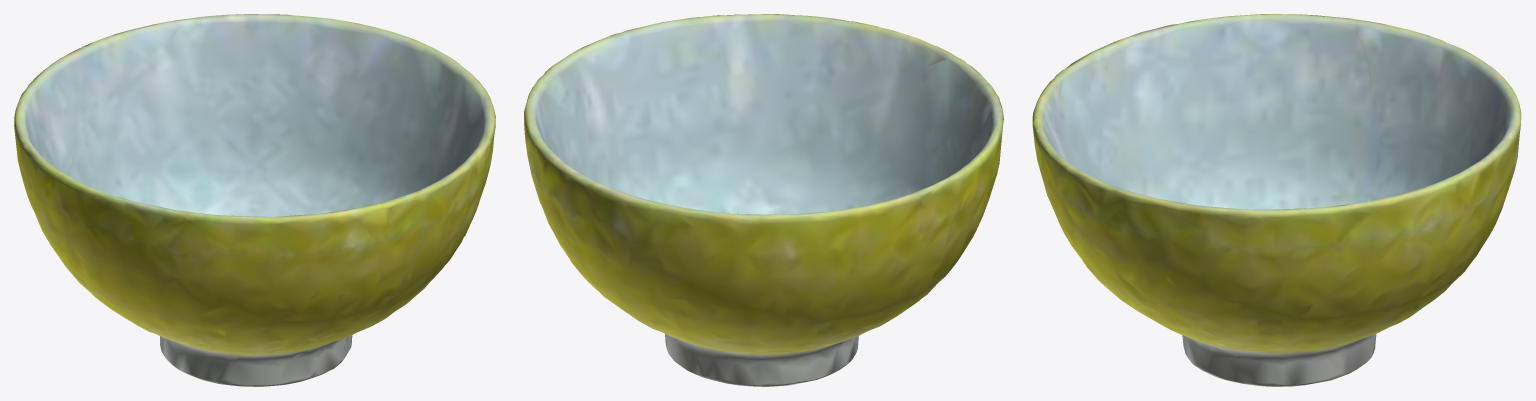
The model's file is Cole_Hardware_Bowl_Scirocco_YellowBlue-high.glb.
3 views of the same model, side by side, from view 1: azimuth 30°, elevation 25°; view 2: azimuth 150°, elevation 25°; view 3: azimuth 270°, elevation 25° (orthographic).
Parts seen in each view (by area): view 1: Cole_Hardware_Bowl_Scirocco_YellowBlue; view 2: Cole_Hardware_Bowl_Scirocco_YellowBlue; view 3: Cole_Hardware_Bowl_Scirocco_YellowBlue.
Boxes of the visible parts, <box> form: Cole_Hardware_Bowl_Scirocco_YellowBlue: <box>14,14,495,386</box>; Cole_Hardware_Bowl_Scirocco_YellowBlue: <box>524,14,1003,386</box>; Cole_Hardware_Bowl_Scirocco_YellowBlue: <box>1032,14,1521,386</box>.
Bounding box in the file's own units: 0.1135 × 0.0619 × 0.1148.
1 material, 1 textured.
